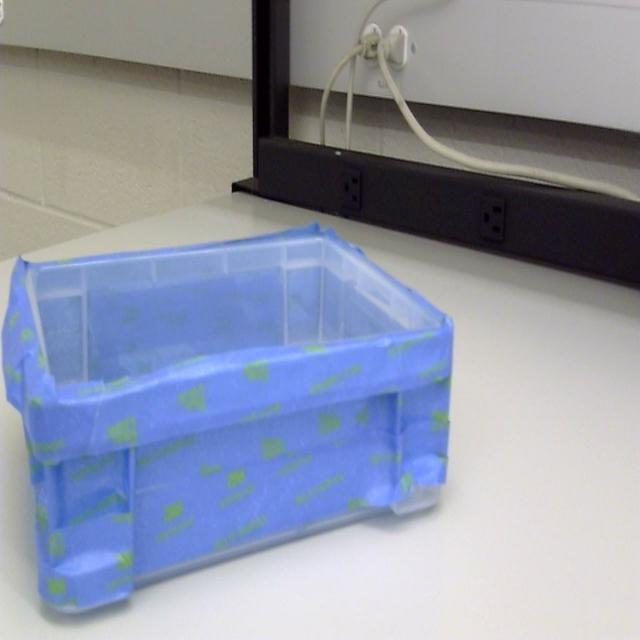bucket: (2, 220, 456, 618)
